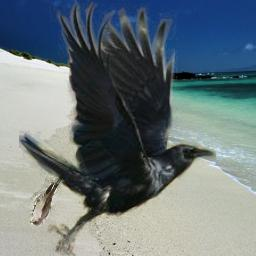Crow: (19, 0, 216, 256)
Cuckoo: (30, 168, 67, 226)
